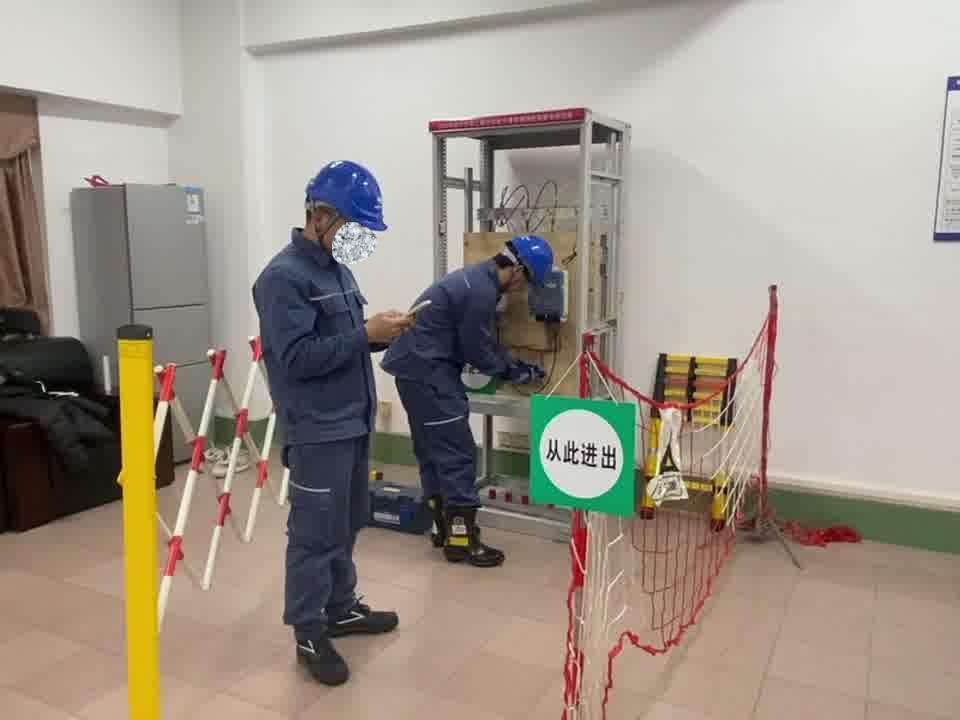halt: (303, 160, 390, 254), (499, 237, 559, 300)
inear: (310, 205, 342, 244), (504, 263, 528, 292)
